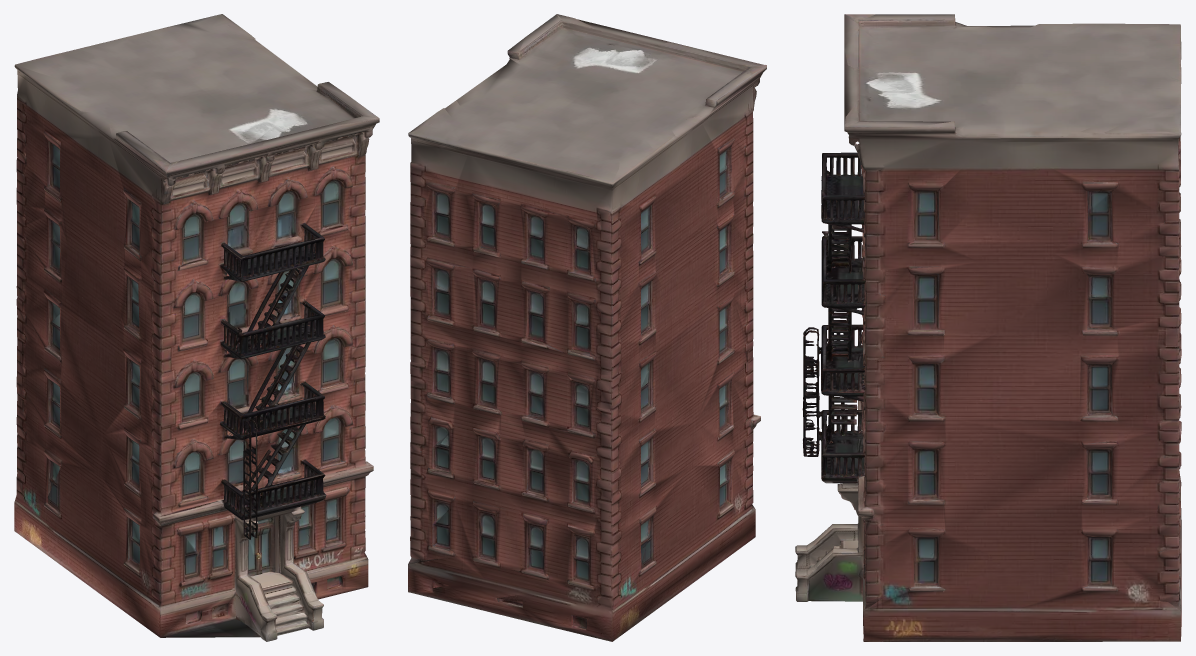
File: brownstone.glb
3 views of the same model, side by side, from view 1: azimuth 30°, elevation 25°; view 2: azimuth 150°, elevation 25°; view 3: azimuth 270°, elevation 25° (orthographic). The views are drawn at different scales.
Parts seen in each view (by area): view 1: Mesh_0; view 2: Mesh_0; view 3: Mesh_0.
Part boxes in pixels (bbox=[...]): Mesh_0: bbox=[14, 14, 379, 641]; Mesh_0: bbox=[408, 14, 766, 641]; Mesh_0: bbox=[795, 14, 1181, 641].
Bounding box in the file's own units: 0.9035 × 1.91 × 1.3.
Materials: 1 (1 with a texture image).
